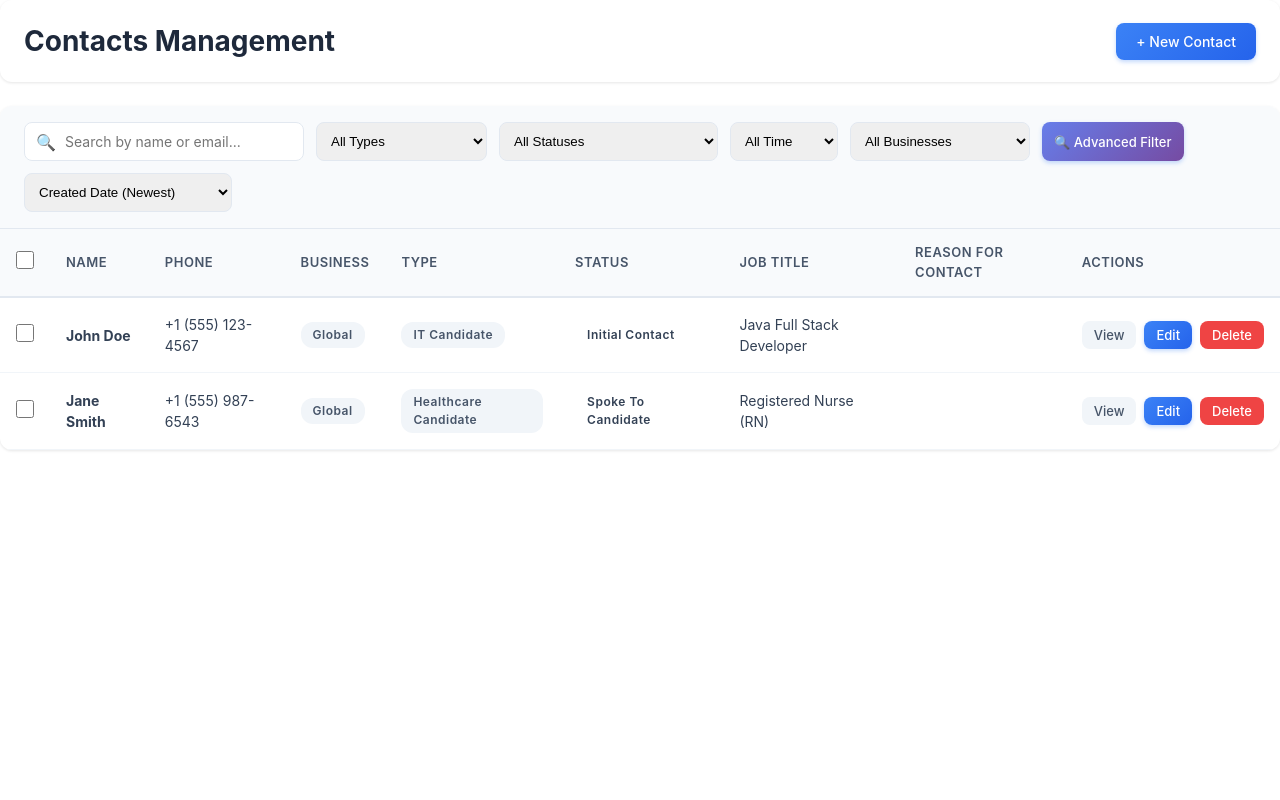
Test: ContactsManager Search and Filter › should hide Advanced Filter Builder when close button is clicked
The image size is (1280, 800).
Note: Open Advanced Filter
Click the button "🔍 Advanced Filter": (1113, 142) left=1042, top=122, right=1184, bottom=161
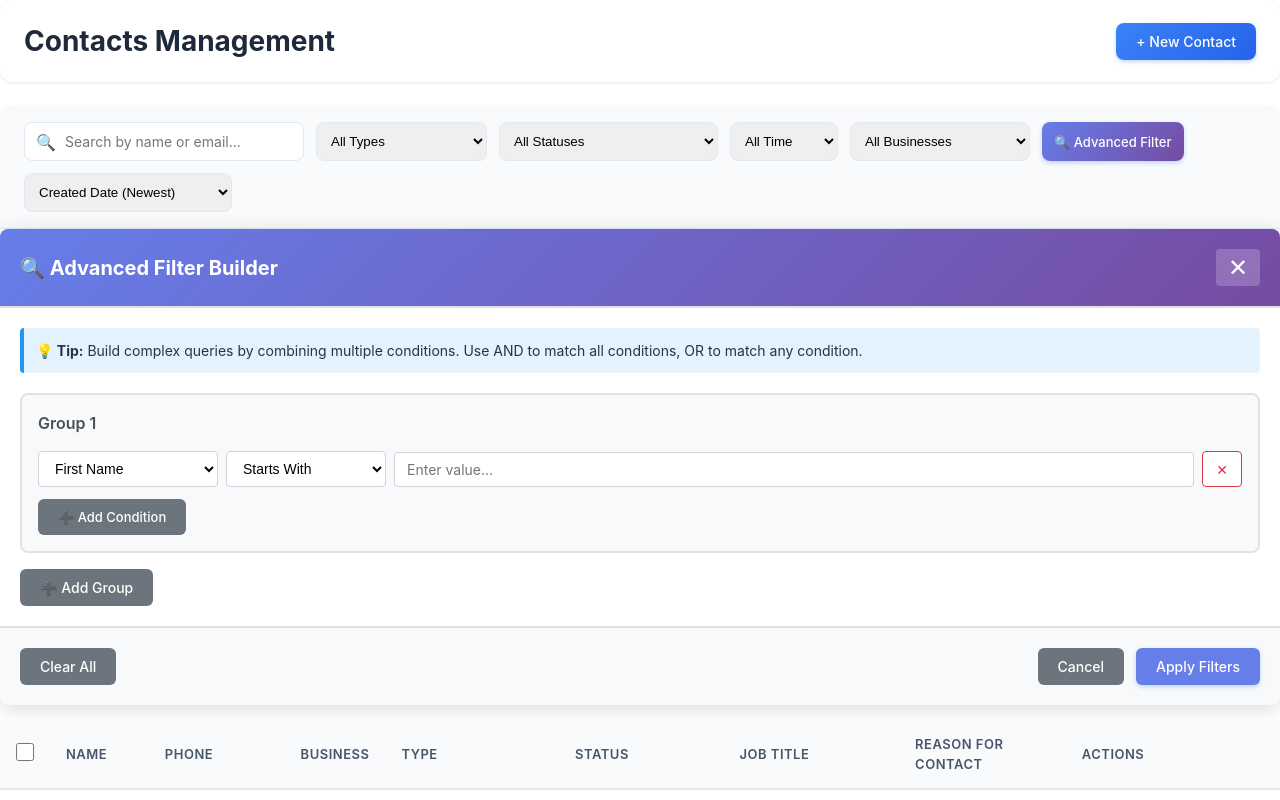
Check: the heading "🔍 Advanced Filter Builder" is shown, box left=20, top=252, right=278, bottom=282
Note: Close Advanced Filter (get the close button in the header, not the remove condition button)
Click the button "✕" in the row of "🔍 Advanced Filter Builder": (1238, 268) left=1216, top=249, right=1260, bottom=286
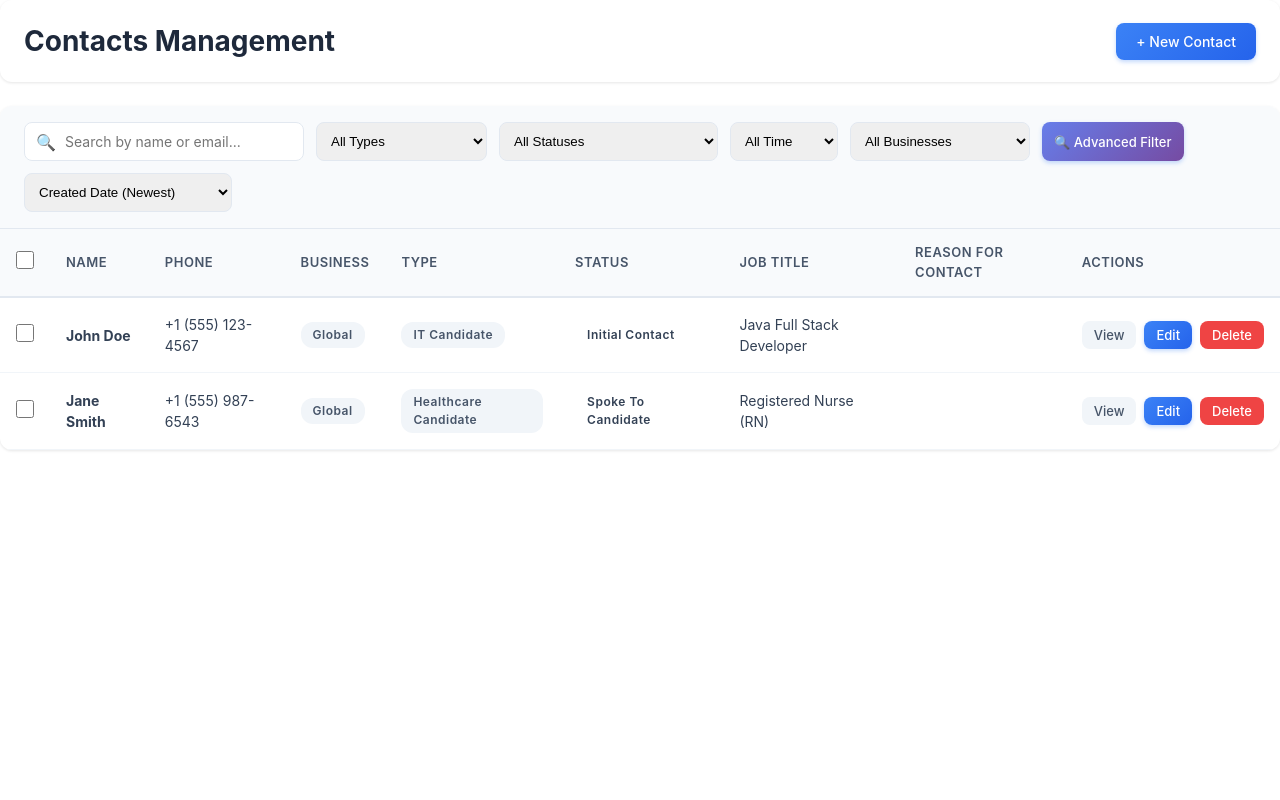
Check: the heading "Advanced Filter Builder" is gone
